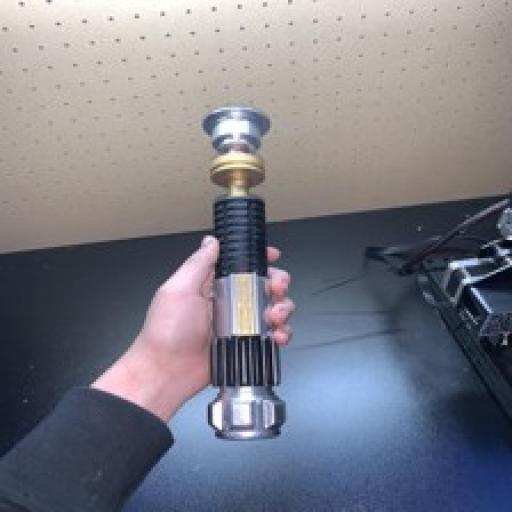lightsaber: (191, 92, 328, 450)
